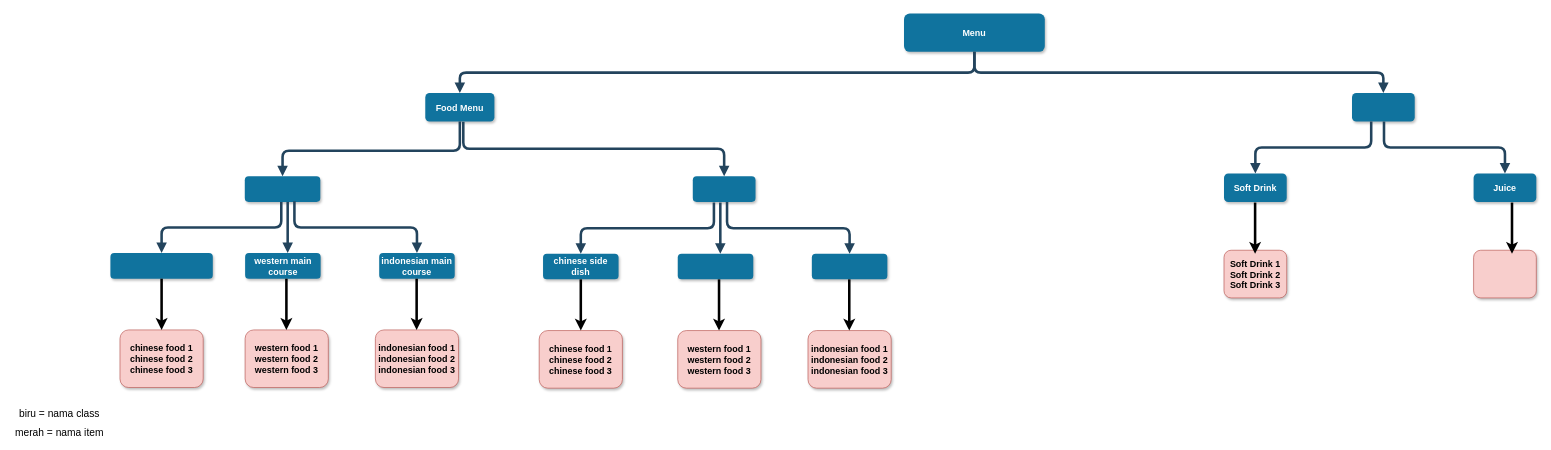
This 1551x450 diagram has some shape labels left out. Each missing label, with the centre of its shape:
"chinese main course" goes at (x=162, y=266).
"Drink Menu" goes at (x=1383, y=108).
"indonesian side dish" goes at (x=850, y=267).
"juice 1 juice 2 juice 3" goes at (x=1505, y=274).
"Main Course" goes at (x=283, y=189).
"Side Dish" goes at (x=724, y=189).
"western side dish" goes at (x=716, y=267).
